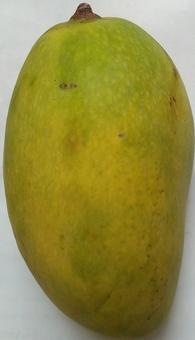PartiallyRipe: (1, 1, 195, 340)
